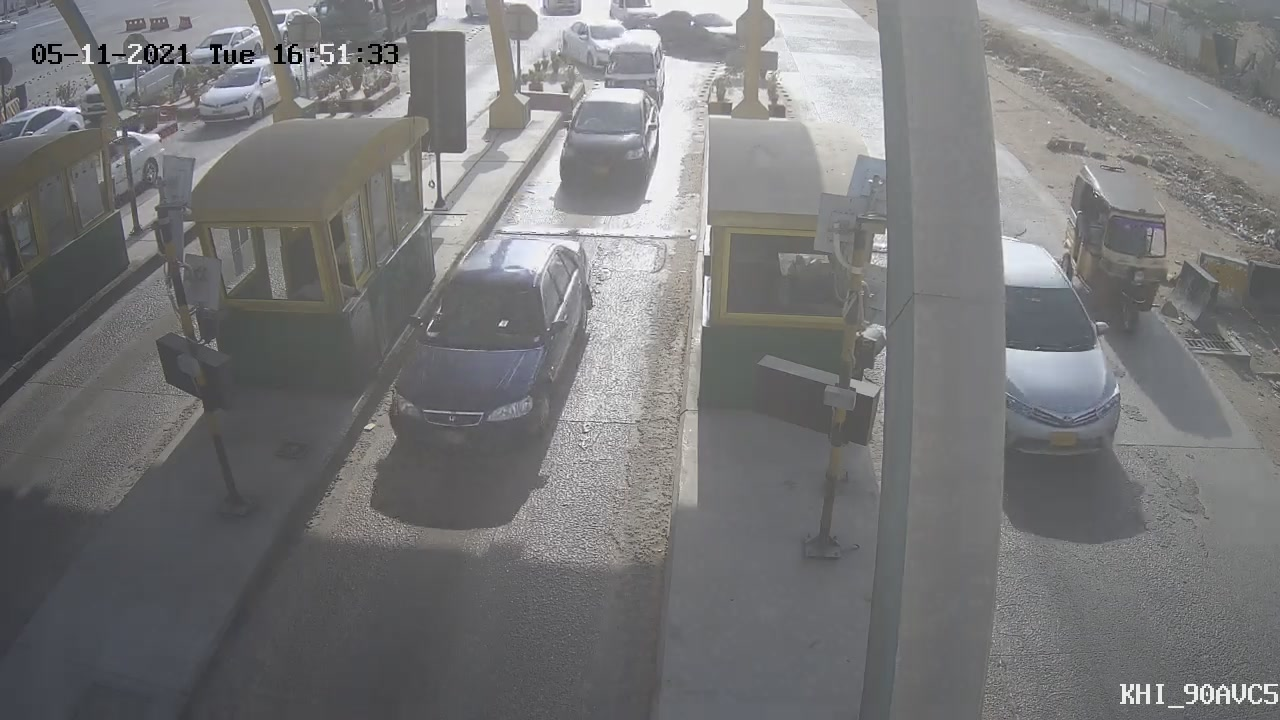F1: (363, 216, 616, 477), (538, 69, 677, 204)
